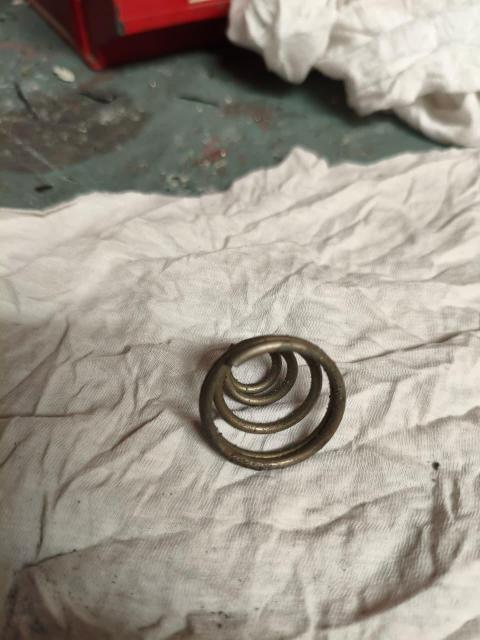Metal: (202, 335, 348, 467)
